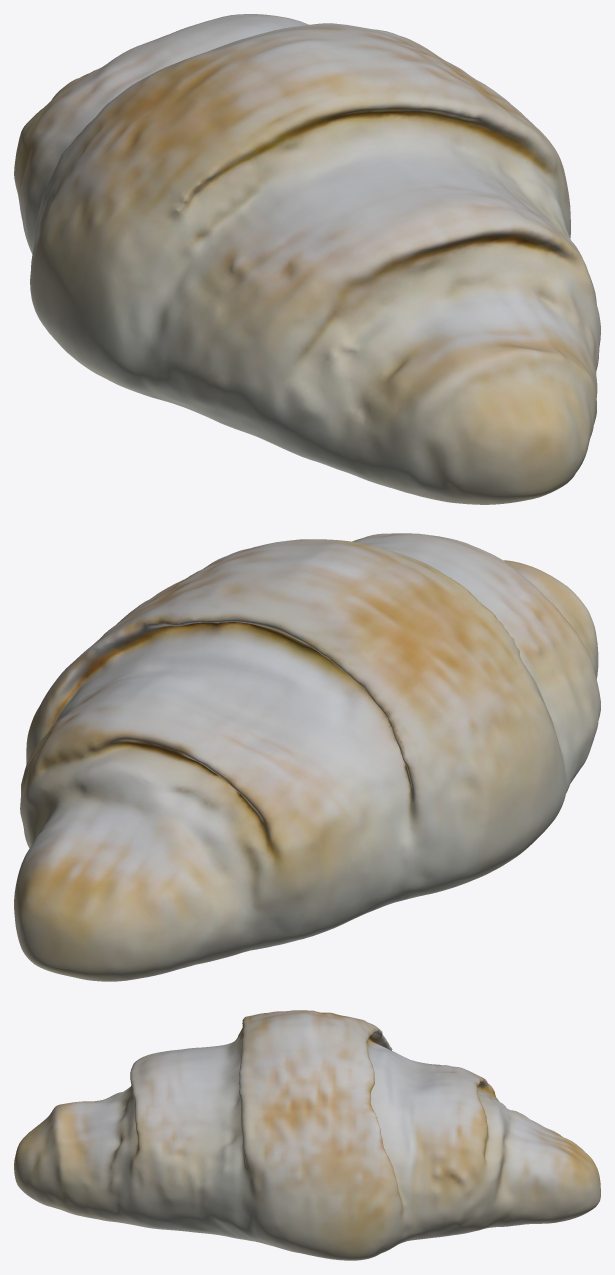
File: cfab14ef2718_white_croissant__3d.fbx
3 renders of one model, top to bottom at view 1: azimuth 30°, elevation 25°; view 2: azimuth 150°, elevation 25°; view 3: azimuth 270°, elevation 25°, orthographic. The views are drawn at different scales.
Visible parts, largest first — view 1: high_poly; view 2: high_poly; view 3: high_poly.
Boxes of the visible parts, x1,y1,x2,y2 form: high_poly: (14,14,600,504); high_poly: (14,533,600,981); high_poly: (14,1010,600,1260).
Size of the model in its own units: 58.04 by 36.61 by 100.
